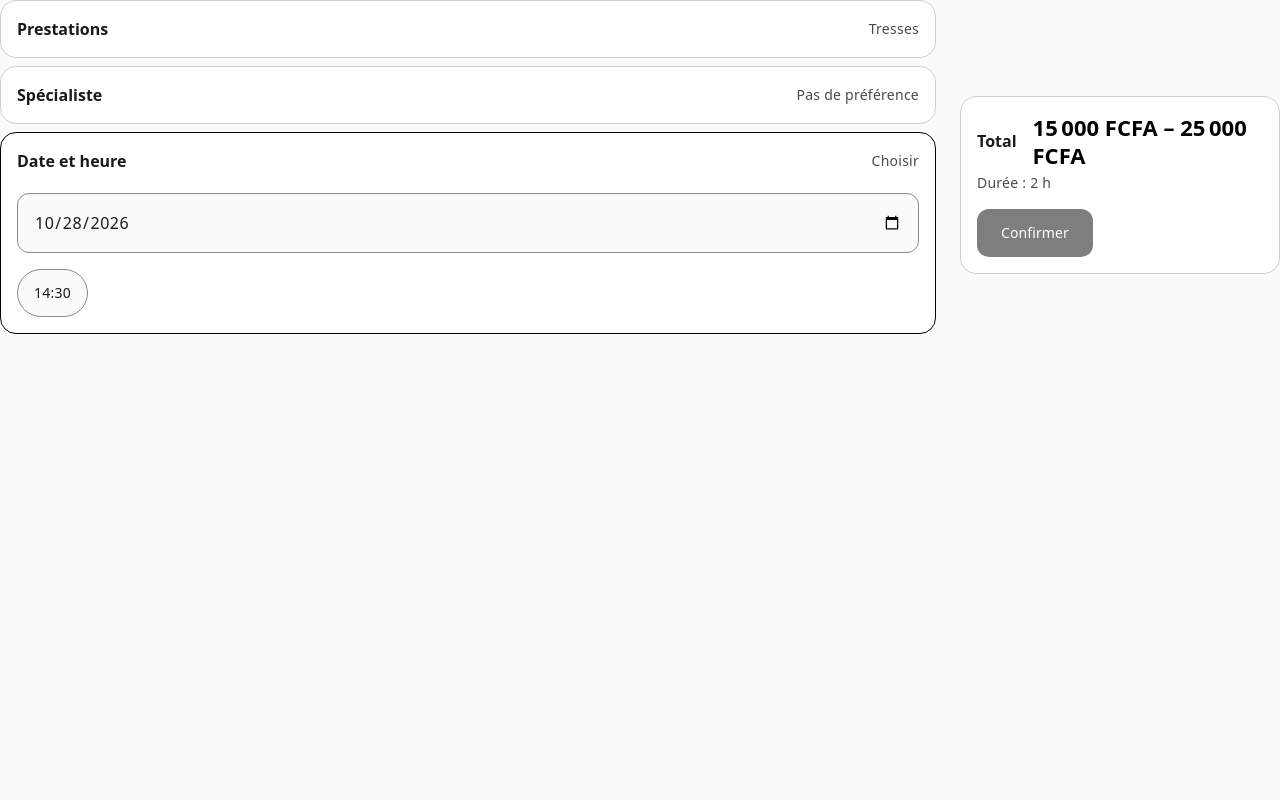
it: « Réserver » — the contact phone at the confirm step › a prefilled number the rule refuses: the button stays enabled, the fault is under the field, nothing is sent
Click the button "14:30": (52, 293) [17,269,88,317]
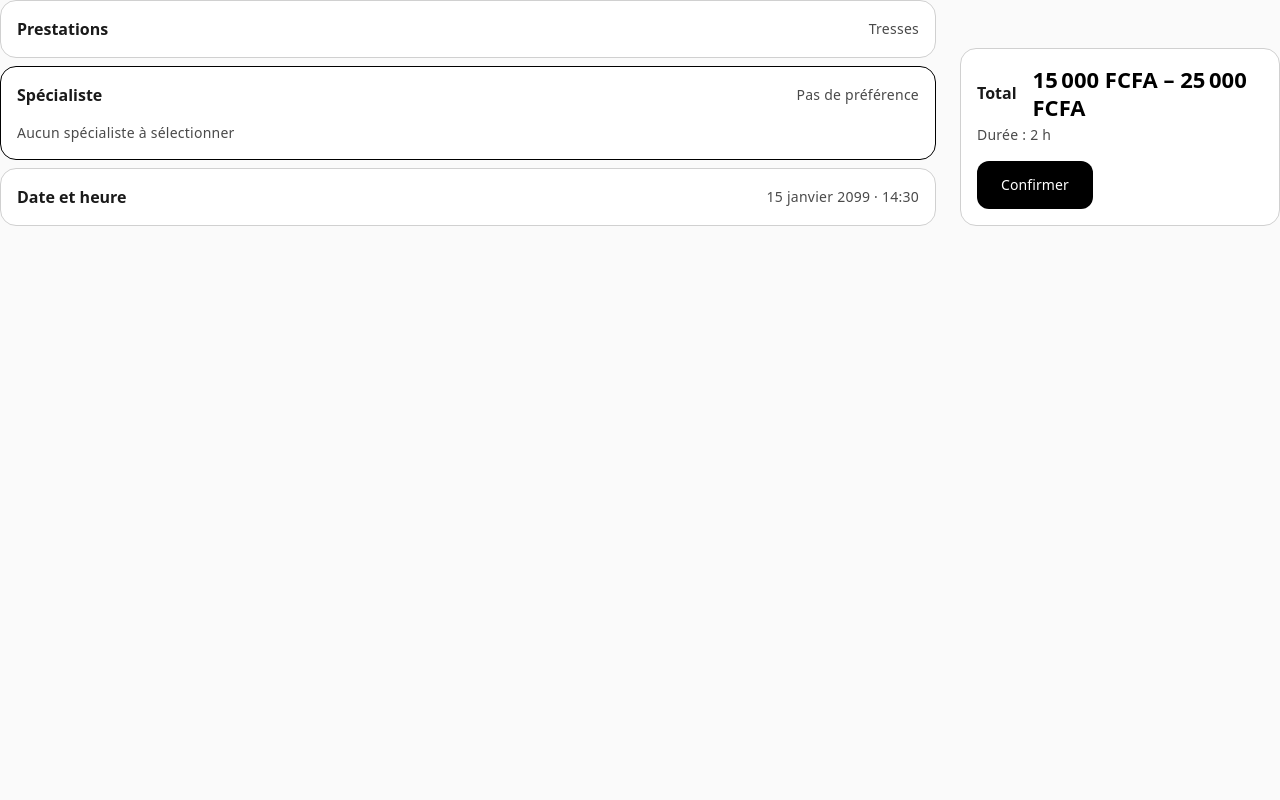
Click the button "Confirmer": (1035, 185) [977,161,1093,209]
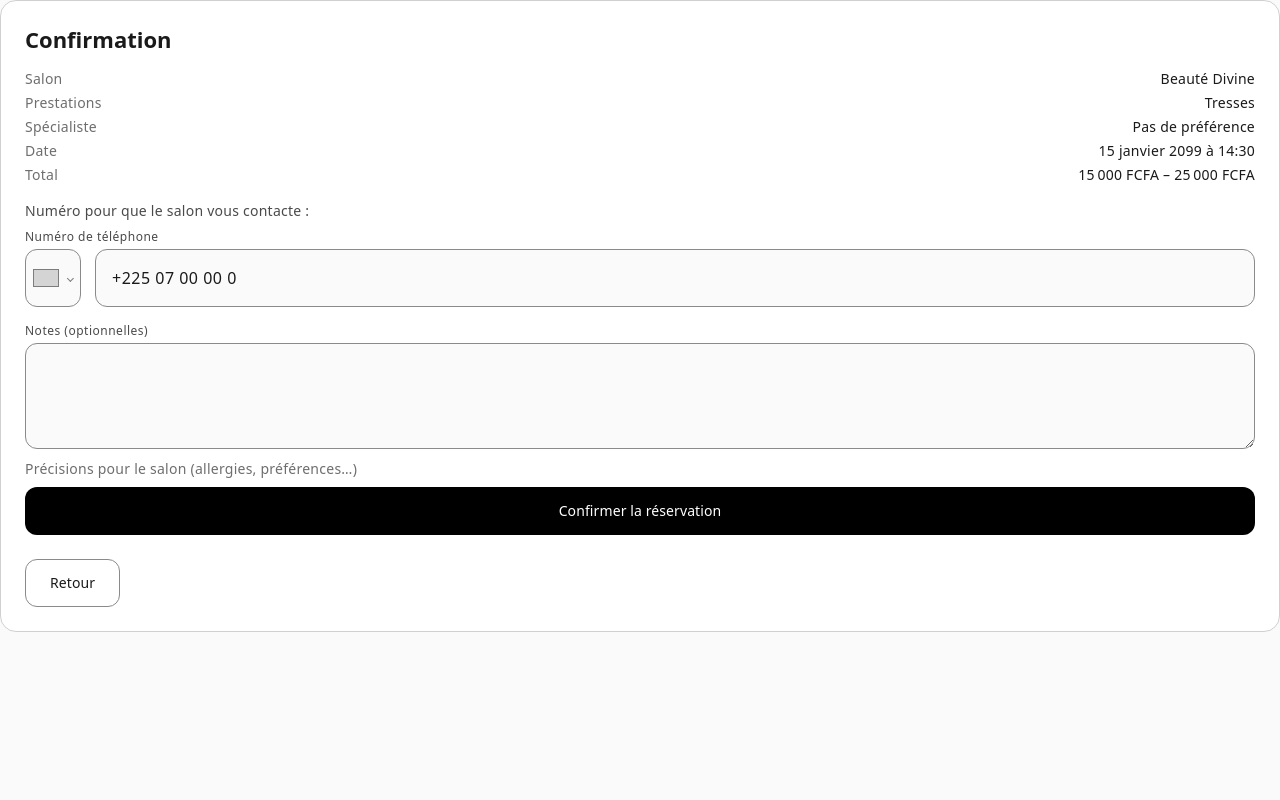
Expected: the button "Confirmer la réservation" is enabled
Click the button "Confirmer la réservation": (640, 511) [25,487,1255,535]
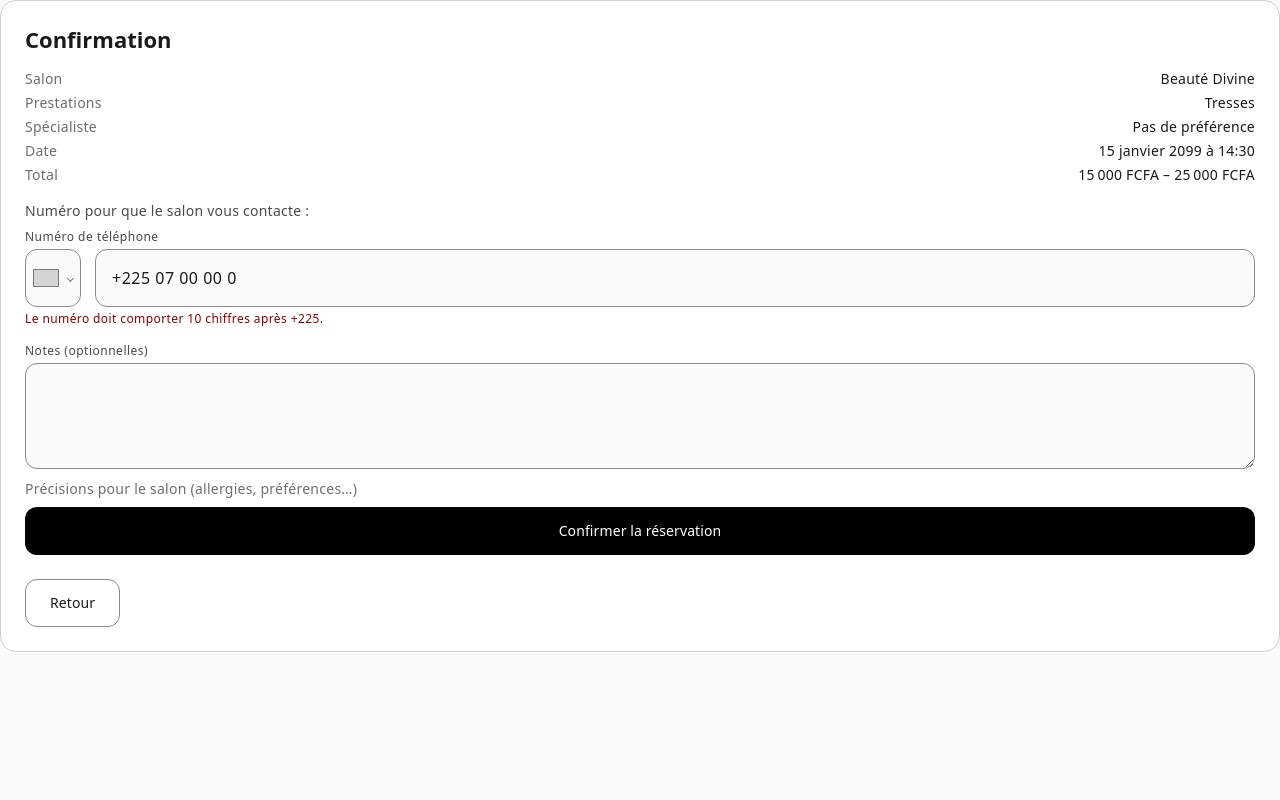
Expected: the text "Le numéro doit comporter 10 chiffres après +225." is shown, [25,310,323,327]
